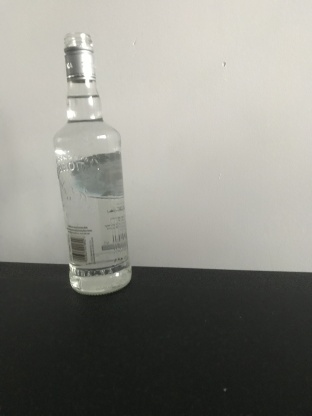nakretka: (61, 31, 97, 84)
